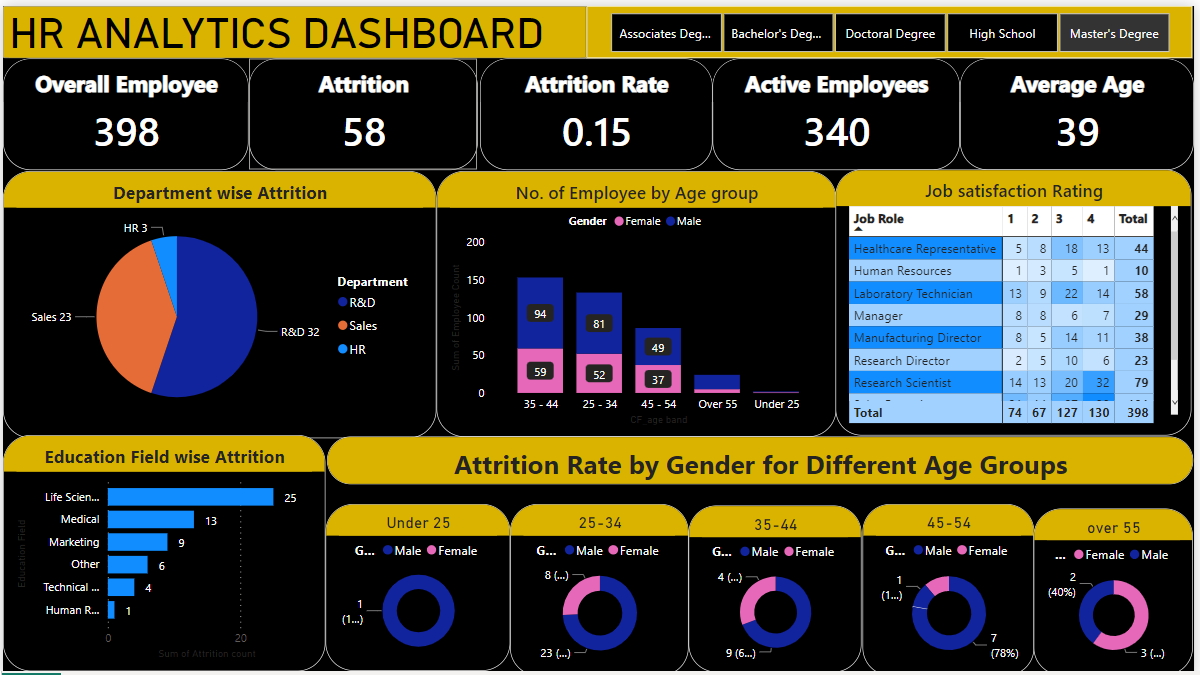

This screenshot's page, from the dashboard's own definition file:
{"tool":"powerbi","page":{"name":"Page 1","canvas":[1280,720],"ordinal":0},"visuals":[{"type":"card","title":"Overall Employee","fields":{"Values":["Sum(HR data.Employee Count)"]},"box":[0,55.7,264.3,120],"z":0},{"type":"card","title":"Attrition","fields":{"Values":["Sum(HR data.Attrition count)"]},"box":[264.3,55.7,245.7,120],"z":1000},{"type":"card","title":"Attrition Rate","fields":{"Values":["HR data.Attrition Rate"]},"box":[512.9,55.7,250,120],"z":2000},{"type":"card","title":"Active Employees","fields":{"Values":["HR data.Active Employees"]},"box":[762.9,55.7,265.7,120],"z":3000},{"type":"card","title":"Average Age","fields":{"Values":["Avg(HR data.Age)"]},"box":[1028.6,55.7,251.4,120],"z":4000},{"type":"pieChart","title":"Department wise Attrition","fields":{"Category":["HR data.Department"],"Y":["Sum(HR data.Attrition count)"]},"box":[0,177.1,465.7,287.1],"z":5000},{"type":"columnChart","title":"No. of Employee by Age group","fields":{"Series":["HR data.Gender"],"Y":["Sum(HR data.Employee Count)"],"Category":["HR data.CF_age band"]},"box":[465.7,177.1,430,285.7],"z":6000},{"type":"pivotTable","title":"Job satisfaction Rating","fields":{"Rows":["HR data.Job Role"],"Columns":["HR data.Job Satisfaction"],"Values":["Sum(HR data.Employee Count)"]},"box":[895.7,175.7,382.9,285.7],"z":7000},{"type":"barChart","title":"Education Field wise Attrition","fields":{"Y":["Sum(HR data.Attrition count)"],"Category":["HR data.Education Field"]},"box":[0,460.9,346.5,254.3],"z":8000},{"type":"donutChart","title":"Under 25","fields":{"Category":["HR data.Gender"],"Y":["Sum(HR data.Attrition count)"],"Series":["HR data.CF_age band"]},"box":[346.5,535.6,198.7,179.6],"z":9000},{"type":"donutChart","title":"25-34","fields":{"Category":["HR data.Gender"],"Y":["Sum(HR data.Attrition count)"],"Series":["HR data.CF_age band"]},"box":[545.2,535.6,192.3,184.4],"z":10000},{"type":"donutChart","title":"35-44","fields":{"Category":["HR data.Gender"],"Y":["Sum(HR data.Attrition count)"],"Series":["HR data.CF_age band"]},"box":[737.5,537.2,186,179.6],"z":11000},{"type":"donutChart","title":"45-54","fields":{"Category":["HR data.Gender"],"Y":["Sum(HR data.Attrition count)"],"Series":["HR data.CF_age band"]},"box":[923.4,535.6,184.4,184.4],"z":12000},{"type":"donutChart","title":"over 55","fields":{"Category":["HR data.Gender"],"Y":["Sum(HR data.Attrition count)"],"Series":["HR data.CF_age band"]},"box":[1107.8,540.4,171.7,179.6],"z":13000},{"type":"textbox","title":"Attrition Rate by Gender for Different Age Groups","box":[348.6,462.9,931.4,51.4],"z":14000},{"type":"textbox","title":"HR ANALYTICS DASHBOARD","box":[0,0,627.1,55.7],"z":15000},{"type":"slicer","fields":{"Values":["HR data.Education"]},"box":[627.1,0,651.4,55.7],"z":16000}]}

Visuals, with their boxes in screenshot pixels (x1, y1, x2, y2), scaled from the page's 1280x720 canvas onto the 1200x675 screenshot:
"Overall Employee" card: pyautogui.locateOnScreen(0, 52, 248, 165)
"Attrition" card: pyautogui.locateOnScreen(248, 52, 478, 165)
"Attrition Rate" card: pyautogui.locateOnScreen(481, 52, 715, 165)
"Active Employees" card: pyautogui.locateOnScreen(715, 52, 964, 165)
"Average Age" card: pyautogui.locateOnScreen(964, 52, 1199, 165)
"Department wise Attrition" pieChart: pyautogui.locateOnScreen(0, 166, 437, 435)
"No. of Employee by Age group" columnChart: pyautogui.locateOnScreen(437, 166, 840, 434)
"Job satisfaction Rating" pivotTable: pyautogui.locateOnScreen(840, 165, 1199, 433)
"Education Field wise Attrition" barChart: pyautogui.locateOnScreen(0, 432, 325, 670)
"Under 25" donutChart: pyautogui.locateOnScreen(325, 502, 511, 670)
"25-34" donutChart: pyautogui.locateOnScreen(511, 502, 691, 674)
"35-44" donutChart: pyautogui.locateOnScreen(691, 504, 866, 672)
"45-54" donutChart: pyautogui.locateOnScreen(866, 502, 1039, 674)
"over 55" donutChart: pyautogui.locateOnScreen(1039, 507, 1199, 674)
"Attrition Rate by Gender for Different Age Groups" textbox: pyautogui.locateOnScreen(327, 434, 1199, 482)
"HR ANALYTICS DASHBOARD" textbox: pyautogui.locateOnScreen(0, 0, 588, 52)
slicer - HR data.Education: pyautogui.locateOnScreen(588, 0, 1199, 52)
